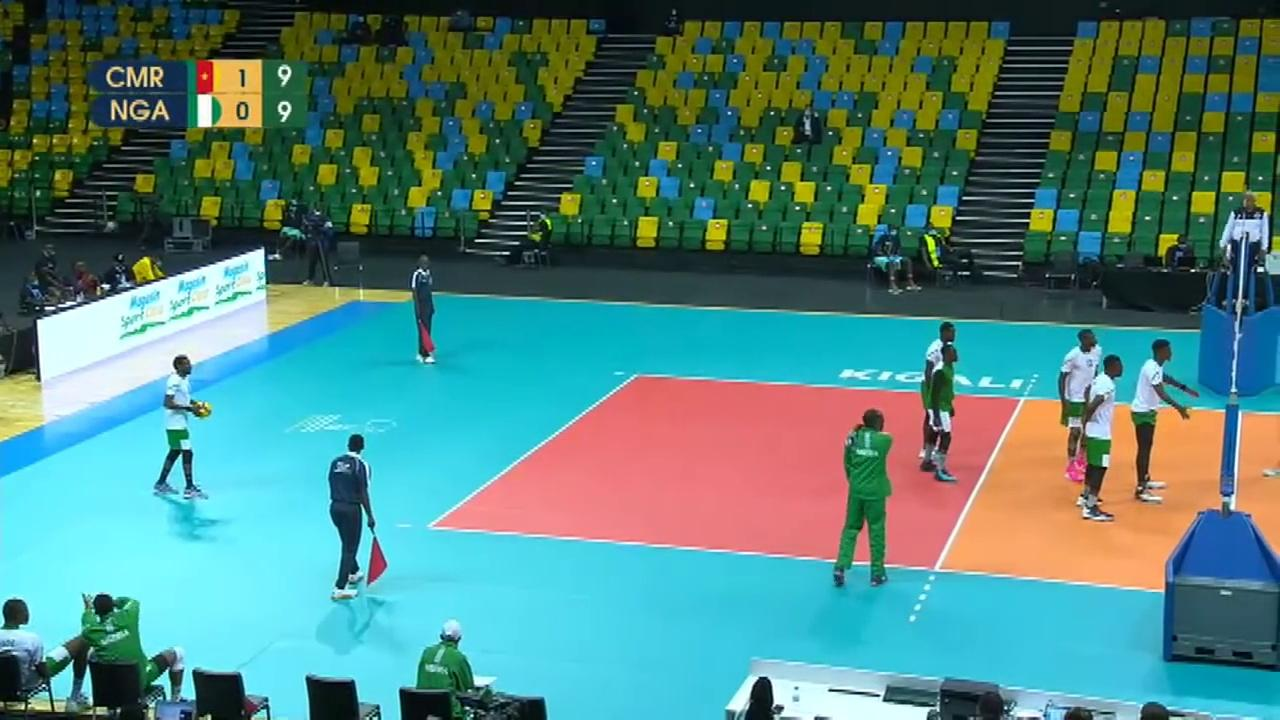player: (1129, 339, 1196, 502), (1074, 352, 1122, 529), (153, 357, 211, 496), (923, 343, 969, 486), (920, 319, 959, 469), (1060, 326, 1097, 483)
refree: (326, 436, 380, 597), (1224, 192, 1266, 303), (407, 253, 436, 365)
